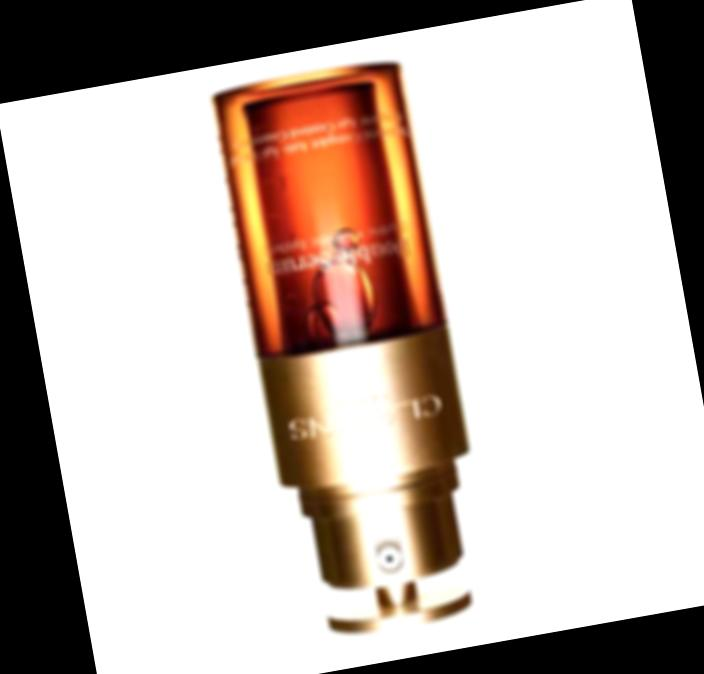cosmetic: (208, 60, 507, 652)
